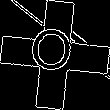O_S: (31, 28, 79, 82)
